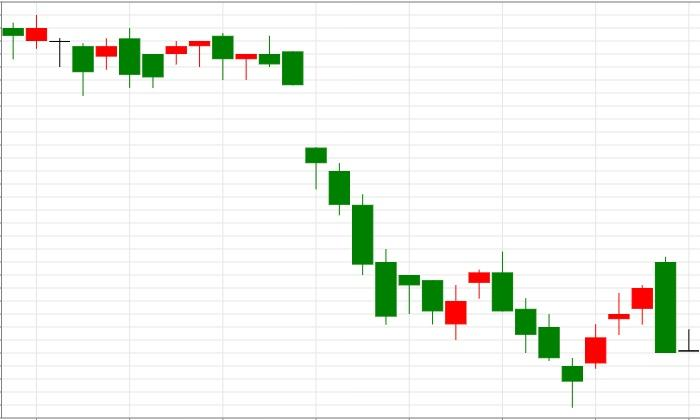bearish_engulfing_fall: (561, 256, 677, 407)
